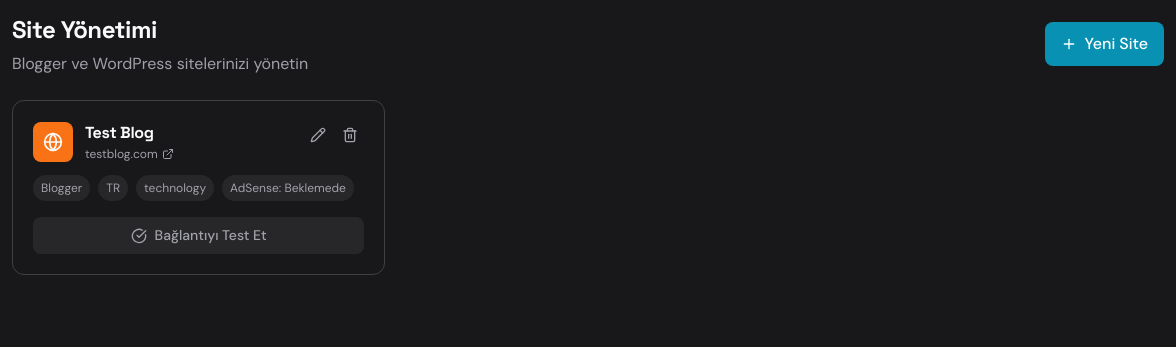
Scenario: SiteManager - Test Connection Button › displays success message on valid credentials
Expected: the heading "Test Blog" is shown, [85,122,154,143]
Click the button "Bağlantıyı Test Et": x=199, y=236 [33,217,364,254]
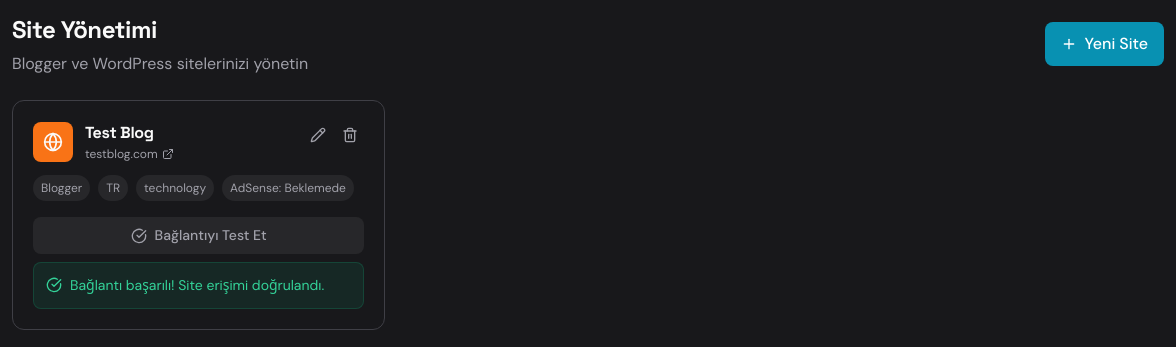
Expected: the message shows "Bağlantı başarılı", [70,276,324,294]
